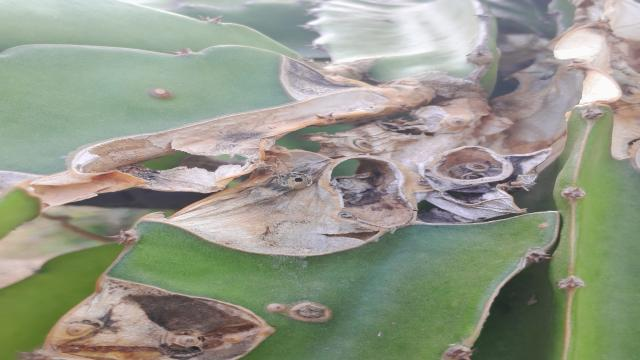stemcanker: (287, 296, 338, 327), (254, 298, 292, 319), (146, 85, 179, 104)
